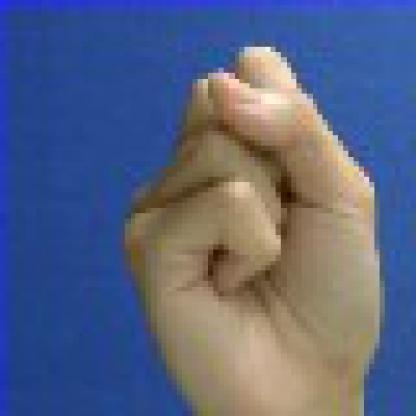zero: (93, 15, 410, 410)
